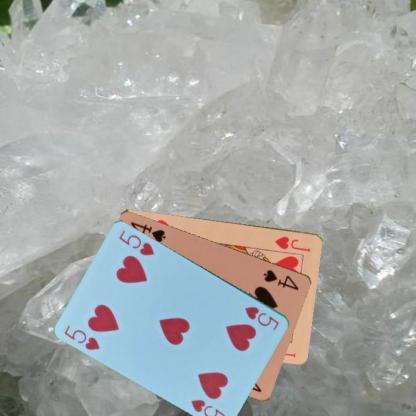4s: (261, 266, 301, 292)
5h: (62, 322, 102, 352), (242, 303, 281, 332)
Jh: (273, 233, 312, 254)
